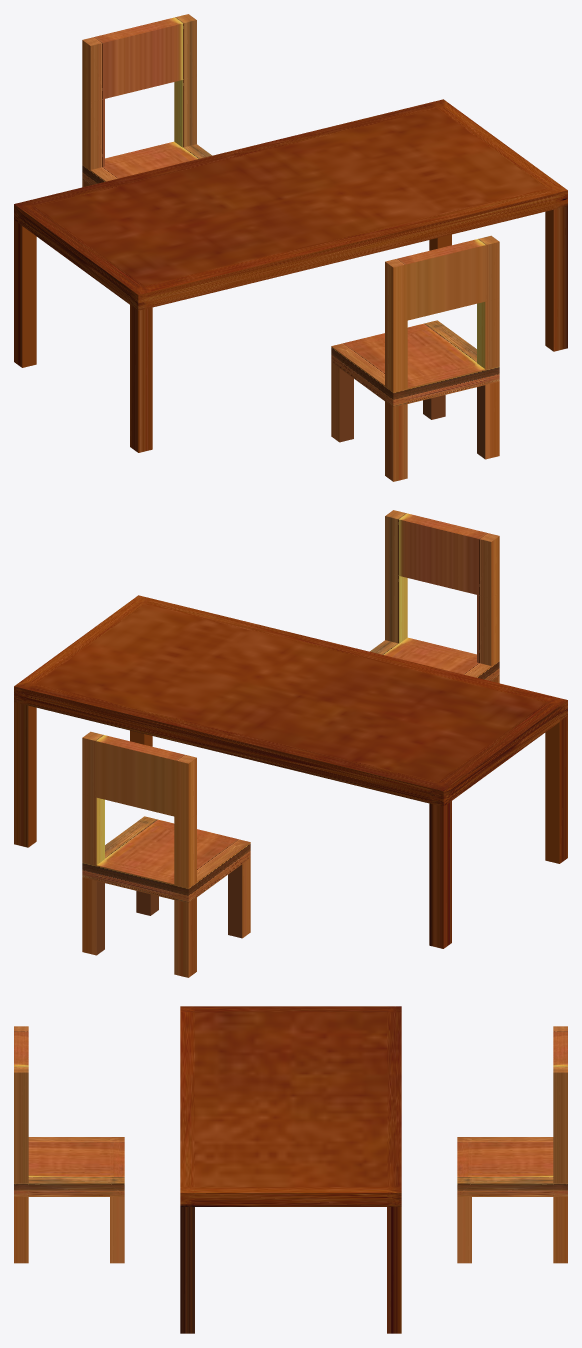
The model's file is Blender4Unity_Table_Chairs.fbx.
3 views of the same model, one above another, from view 1: azimuth 30°, elevation 25°; view 2: azimuth 150°, elevation 25°; view 3: azimuth 270°, elevation 25° (orthographic). The views are drawn at different scales.
Visible parts, largest first — view 1: Table.001, Chair.002, Chair.001; view 2: Table.001, Chair.001, Chair.002; view 3: Table.001, Chair.001, Chair.002.
Part boxes in pixels (x1,y1,x2,y2): Table.001: [14, 99, 567, 452]; Chair.002: [331, 235, 499, 481]; Chair.001: [82, 14, 211, 187]; Table.001: [14, 595, 567, 948]; Chair.001: [82, 731, 250, 977]; Chair.002: [370, 510, 499, 683]; Table.001: [180, 1006, 401, 1333]; Chair.001: [457, 1026, 567, 1263]; Chair.002: [14, 1026, 124, 1263].
Bounding box in the file's own units: 199 × 95 × 250.
